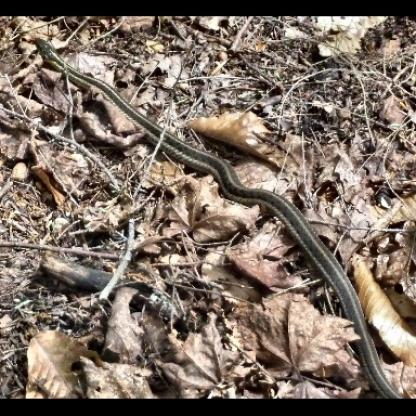Snake: (31, 32, 382, 380)
